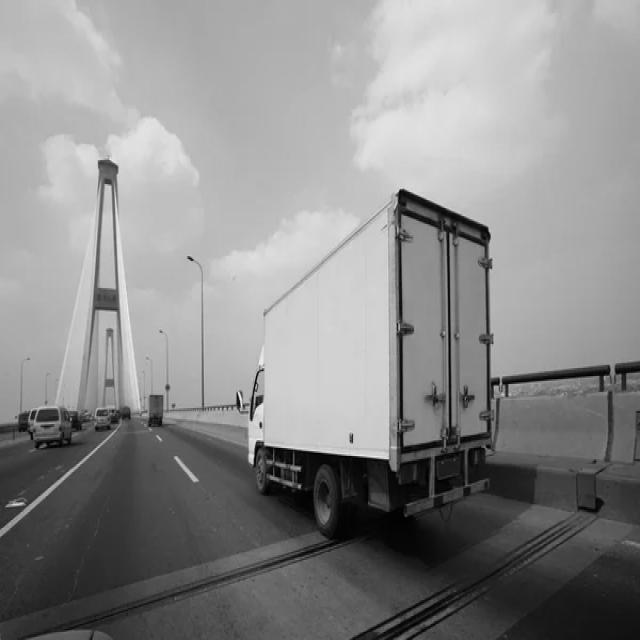Truck: (248, 190, 494, 537)
